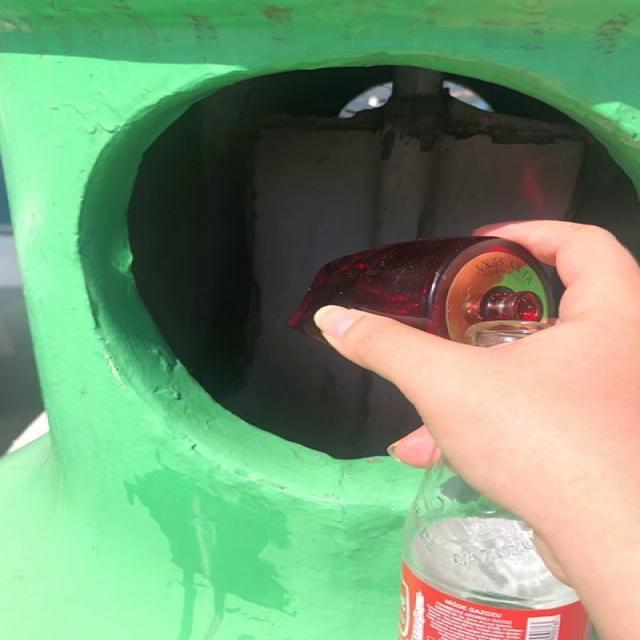Glass: (288, 237, 552, 346)
